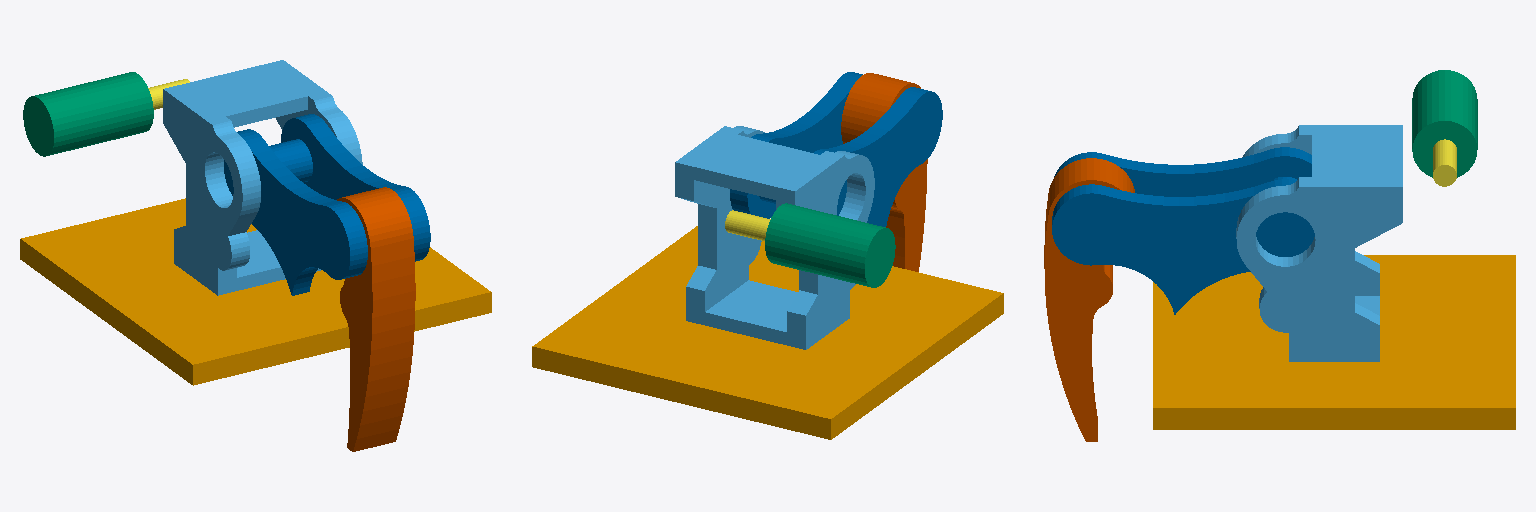
robot.urdf — Stomp:
<?xml version="1.0"?>
<!-- vim: set ft=xml sw=2 : -->
<robot name="Stomp">
  <link name="base">
    <visual>
      <geometry>
        <box size="0.3 0.3 0.02"/>
      </geometry>
      <origin xyz="0 0 -0.01"/>
    </visual>
  </link>
  <joint name="pivot" type="continuous">
    <parent link="base"/>
    <child link="hip"/>
    <axis xyz="0 0 1"/>
    <origin xyz="0.0 0.0 0.112" rpy="0 0 0"/>
  </joint>
  <link name="hip">
    <visual>
      <geometry>
        <mesh filename="Leg 1 Hip Simplified.obj"/>
      </geometry>
    </visual>
    <inertial>
      <origin xyz="-0.002 -0.004 -0.025"/>
      <mass value="2.067"/>
      <inertia ixx="0.009" ixy="0" ixz="0" iyy="0.011" iyz="-0.001" izz="0.007"/>
    </inertial>
    <collision>
    </collision>
  </link>
  <joint name="pivot_cylinder_base" type="continuous">
    <parent link="base"/>
    <child link="pivot_cylinder"/>
    <origin xyz="-0.06543 0.0915 0.135" rpy="0 1.57 0"/>
    <axis xyz="0 0 1"/>
  </joint>
  <link name="pivot_cylinder">
    <visual>
      <geometry>
        <cylinder length="0.10" radius="0.027"/>
      </geometry>
      <origin xyz="0 0 -0.05"/>
    </visual>
  </link>
  <joint name="pivot_cylinder_slide" type="prismatic">
    <parent link="pivot_cylinder"/>
    <child link="pivot_rod"/>
    <axis xyz="0 0 1"/>
  </joint>
  <link name="pivot_rod">
    <visual>
      <geometry>
        <cylinder length="0.10" radius="0.01"/>
      </geometry>
    </visual>
  </link>
  <!--
  <joint name="pivot_yoke" type="continuous">
    <parent link="pivot_rod"/>
    <child link="hip"/>
    <origin xyz="0 0.099 0"/>
  </joint>
  -->
  <joint name="knee" type="continuous">
    <parent link="hip" />
    <child link="thigh" />
    <origin xyz="0 -0.041 0.0" />
    <axis xyz="1 0 0" />
  </joint>
  <link name="thigh">
    <visual>
      <geometry>
        <mesh filename="Leg 1 Thigh Simplified.obj"/>
      </geometry>
    </visual>
    <inertial>
      <origin xyz="0 -0.048 -0.003"/>
      <mass value="1.512"/>
      <inertia ixx="0.01" ixy="0" ixz="0" iyy="0.002" iyz="0" izz="0.011"/>
    </inertial>
    <collision>
    </collision>
  </link>
  <joint name="ankle" type="continuous">
    <parent link="thigh" />
    <child link="foot" />
    <origin xyz="0 -0.160 0" />
    <axis xyz="1 0 0" />
  </joint>
  <link name="foot">
    <visual>
      <geometry>
        <mesh filename="Leg 1 Foot Simplified.obj"/>
      </geometry>
    </visual>
    <inertial>
      <origin xyz="0 -0.008 -0.053"/>
      <mass value="0.600"/>
      <inertia ixx=".003" ixy="0" ixz="0" iyy="0.002" iyz="0" izz="0.0003"/>
    </inertial>
  </link>
</robot>

--- Render facts (derived) ---
3 views of the same robot in one strip: view 1: azimuth 30°, elevation 25°; view 2: azimuth 150°, elevation 25°; view 3: azimuth 270°, elevation 25° (orthographic).
Robot: Stomp — 6 links, 5 joints (4 continuous, 1 prismatic); root link base; default pose: all joints at 0.
Visible links, largest first — view 1: base, hip, thigh, foot, pivot_cylinder; view 2: base, hip, thigh, pivot_cylinder, foot, pivot_rod; view 3: base, hip, thigh, foot, pivot_cylinder, pivot_rod.
Link boxes in pixels (box(x1,y1,x2,y2)): base: box(20, 198, 491, 385); hip: box(163, 60, 362, 295); thigh: box(224, 114, 430, 295); foot: box(337, 187, 415, 451); pivot_cylinder: box(23, 72, 153, 156); base: box(532, 226, 1003, 439); hip: box(675, 126, 874, 349); thigh: box(730, 72, 942, 226); pivot_cylinder: box(765, 203, 895, 287); foot: box(841, 73, 927, 271); pivot_rod: box(725, 210, 770, 240); base: box(1153, 255, 1515, 429); hip: box(1236, 125, 1402, 361); thigh: box(1052, 147, 1314, 314); foot: box(1044, 158, 1134, 441); pivot_cylinder: box(1412, 70, 1477, 177); pivot_rod: box(1433, 139, 1456, 186).
Size in the robot's own frame: 0.3155 by 0.3903 by 0.2532 metres.
3 mesh visuals loaded from 3 distinct referenced files (3 OBJ).